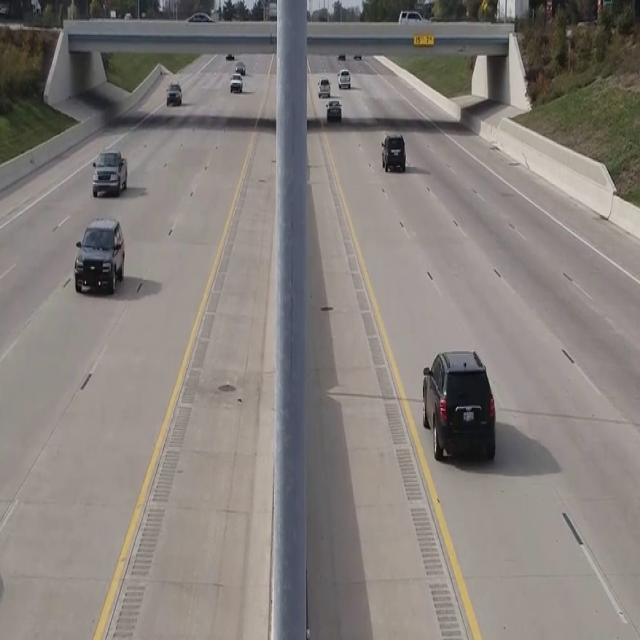car: (421, 348, 496, 462), (74, 216, 124, 294), (91, 149, 127, 197), (380, 132, 406, 171), (166, 83, 181, 105), (326, 100, 341, 120), (318, 78, 330, 97)
